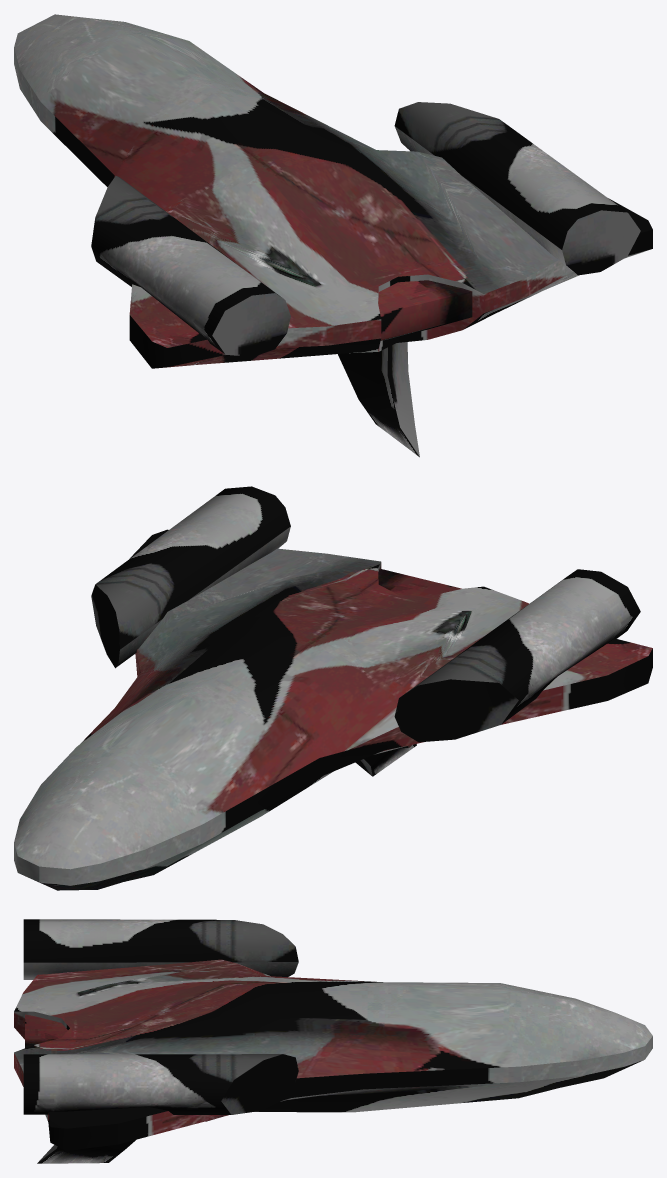
File: Lightning.fbx
3 views of the same model, one above another, from view 1: azimuth 30°, elevation 25°; view 2: azimuth 150°, elevation 25°; view 3: azimuth 270°, elevation 25° (orthographic). The views are drawn at different scales.
Parts seen in each view (by area): view 1: lightning2; view 2: lightning2; view 3: lightning2.
Part boxes in pixels (x1,y1,x2,y2): lightning2: [14, 14, 652, 457]; lightning2: [14, 486, 652, 890]; lightning2: [14, 919, 652, 1163].
Bounding box in the file's own units: 63.66 × 26.55 × 87.34.
Materials: 1 (1 with a texture image).
